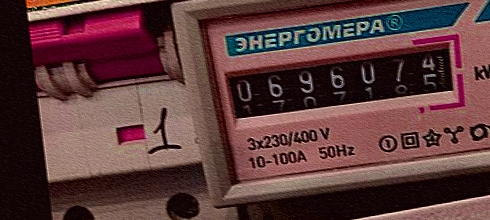0: (233, 76, 254, 103), (358, 58, 377, 86)
4: (419, 50, 436, 72)
5: (422, 72, 438, 92)
6: (327, 62, 346, 91), (264, 71, 284, 98)
7: (389, 55, 408, 83)
9: (295, 68, 315, 95)
screen: (217, 30, 470, 137)
